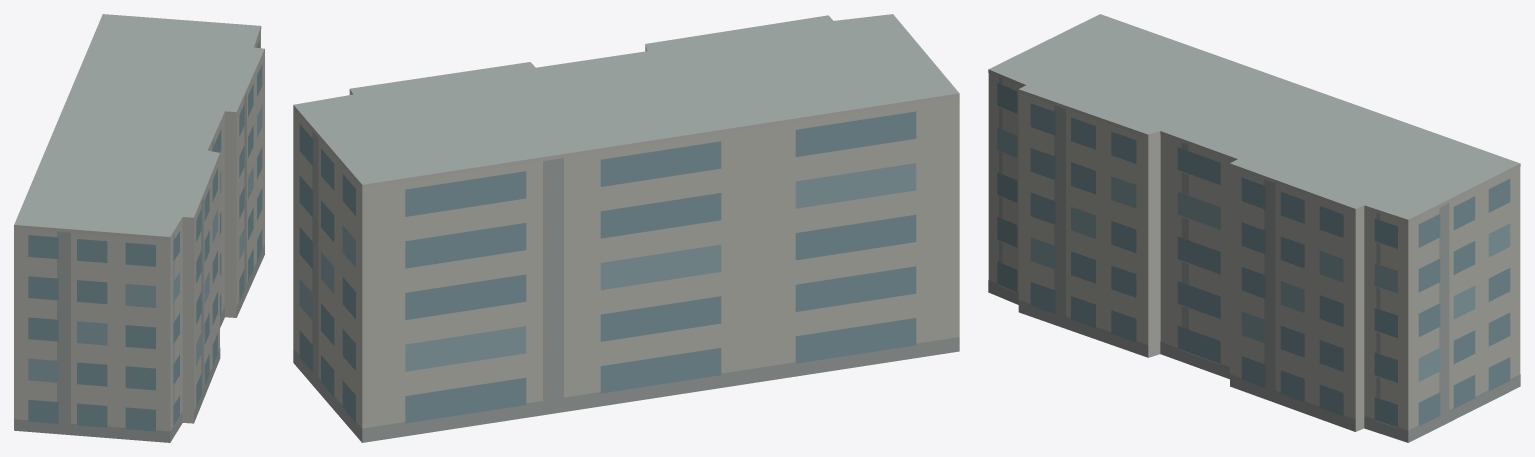
The model's file is survey-upis-32917205.glb.
3 renders of one model, left to right at view 1: azimuth 30°, elevation 25°; view 2: azimuth 150°, elevation 25°; view 3: azimuth 270°, elevation 25°, orthographic. The views are drawn at different scales.
Visible parts, largest first — view 1: survey-upis-32917205.tmp; view 2: survey-upis-32917205.tmp; view 3: survey-upis-32917205.tmp.
Part boxes in pixels (x1,y1,x2,y2): survey-upis-32917205.tmp: (14, 14, 264, 442); survey-upis-32917205.tmp: (293, 14, 959, 442); survey-upis-32917205.tmp: (988, 14, 1520, 442).
Bounding box in the file's own units: 30.37 × 15.35 × 33.18.
